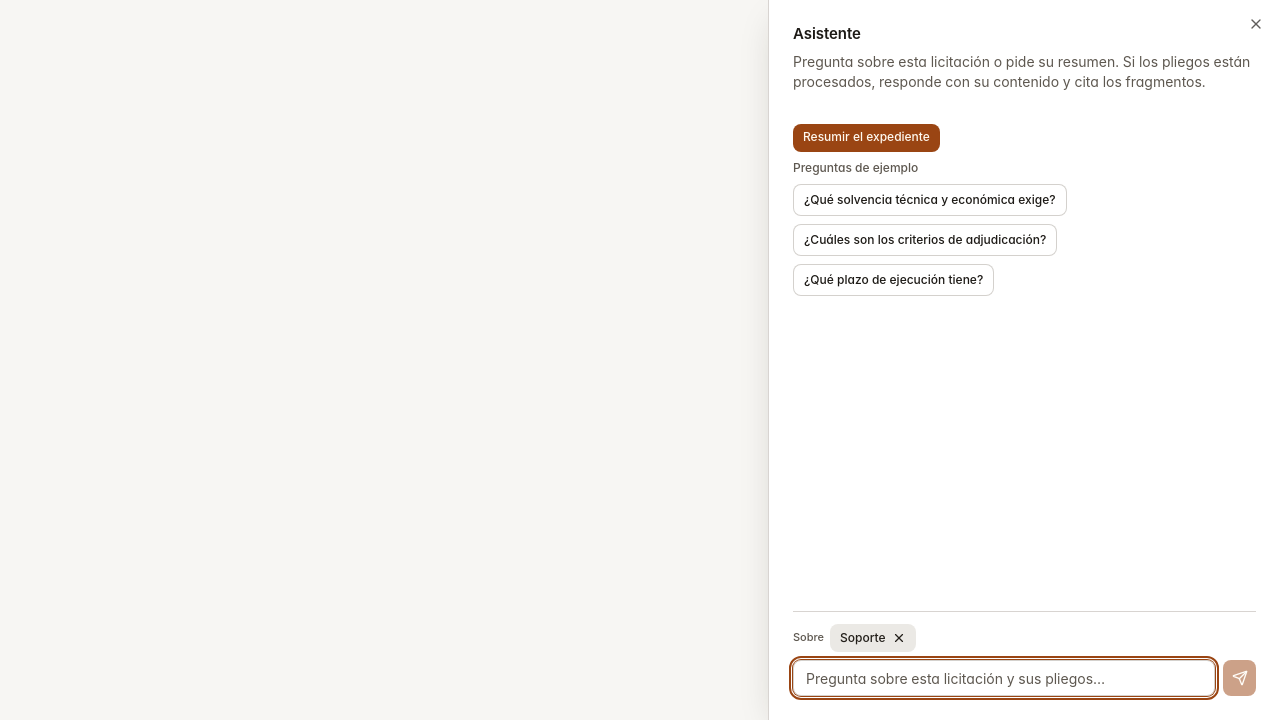
Test: Asistente — el resumen falla › enseña el mensaje humano y deja plegado el motivo que dio la API
Click the button "Resumir el expediente".
click(866, 138)  # box 793,124 -> 940,152
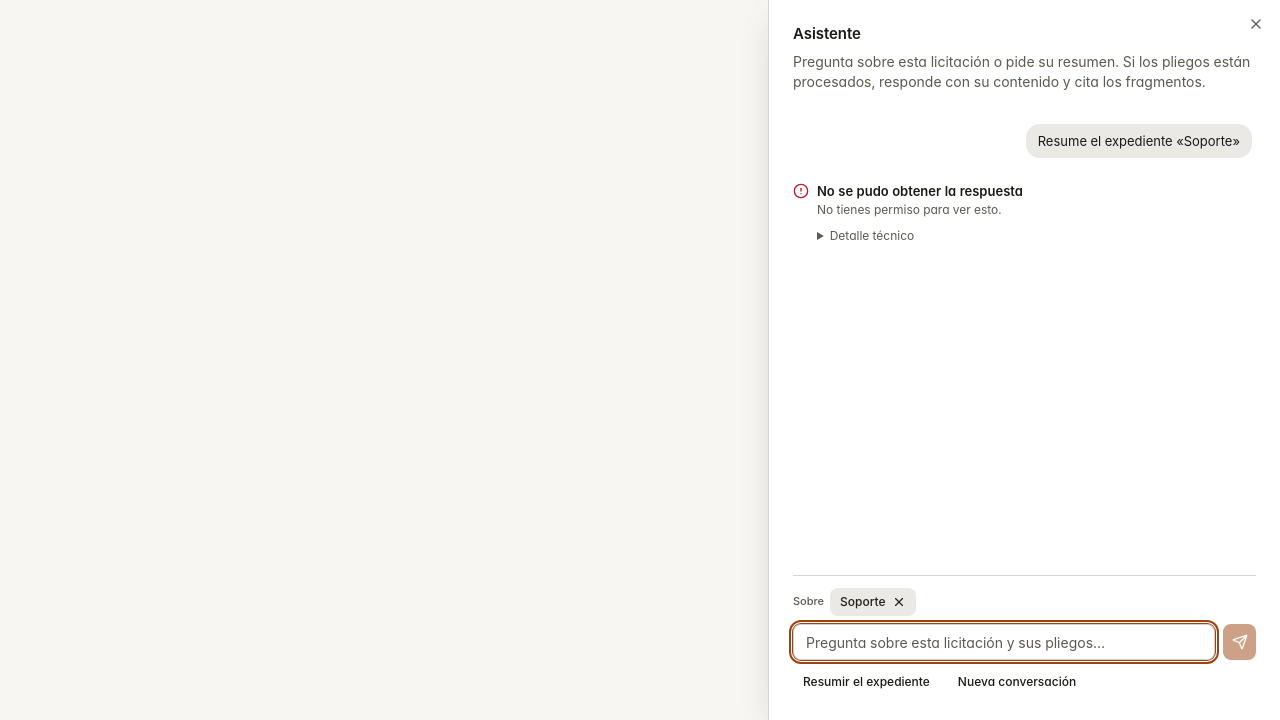
Check: the message shows "No se pudo obtener la respuesta", box 817,183 -> 1023,199
Check: the message shows "No tienes permiso para ver esto.", box 817,202 -> 1002,217
Check: the text "Resume el expediente «Soporte»" is shown, box 1026,124 -> 1252,158
